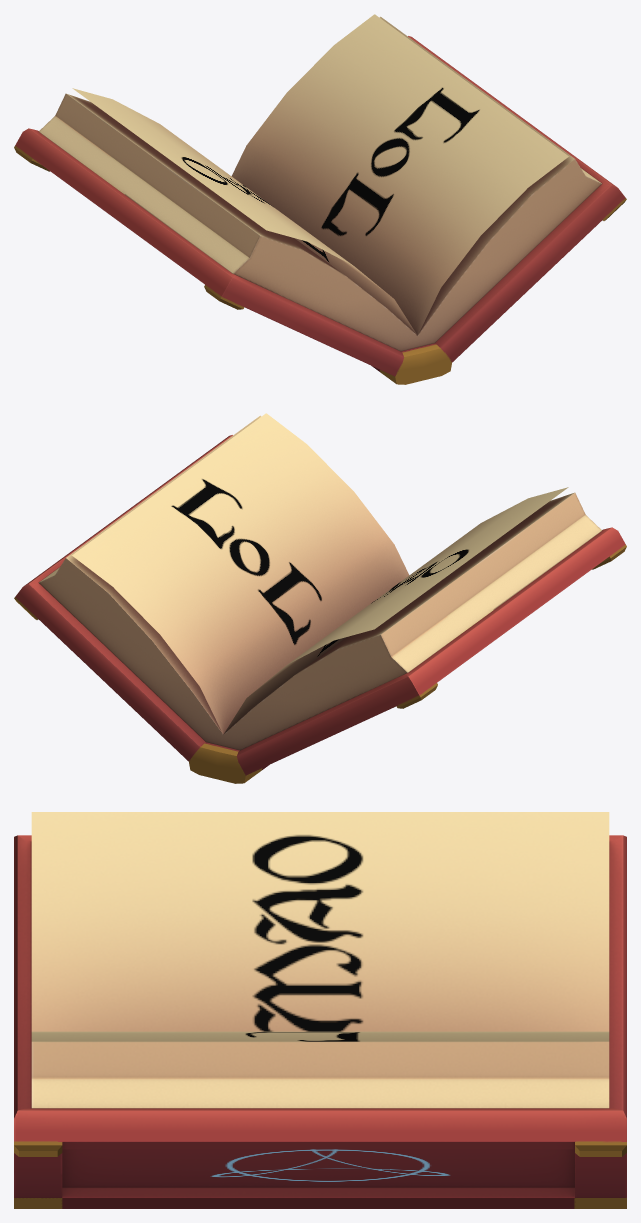
Rendered from SM_Book.fbx.
The picture shows the model from 3 angles, top to bottom: view 1: azimuth 30°, elevation 25°; view 2: azimuth 150°, elevation 25°; view 3: azimuth 270°, elevation 25°; orthographic projection. The views are drawn at different scales.
Parts seen in each view (by area): view 1: Cube.003; view 2: Cube.003; view 3: Cube.003.
Part boxes in pixels (x1,y1,x2,y2): Cube.003: (14, 14, 626, 384); Cube.003: (14, 413, 626, 783); Cube.003: (14, 812, 626, 1208).
Size of the model in its own units: 80.94 by 34.74 by 71.16.
Materials: 1 (1 with a texture image).
